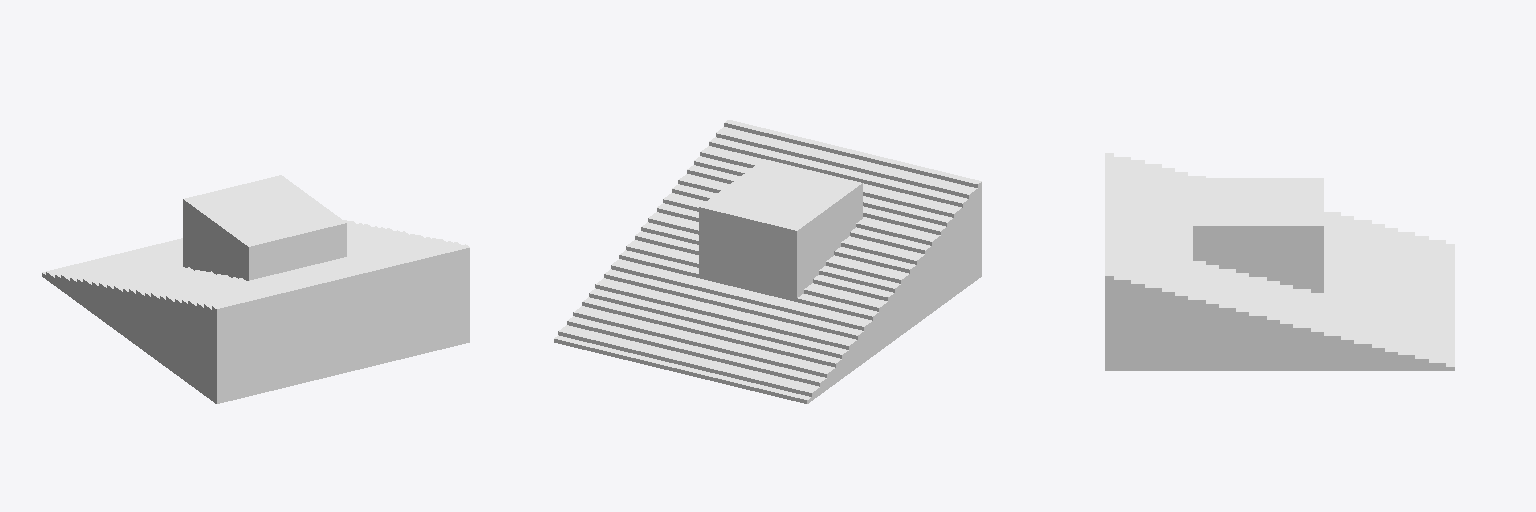
The model's file is dom-6.obj.
3 views of the same model, side by side, from view 1: azimuth 30°, elevation 25°; view 2: azimuth 150°, elevation 25°; view 3: azimuth 270°, elevation 25° (orthographic).
Visible parts, largest first — view 1: object 1; view 2: object 1; view 3: object 1.
Boxes of the visible parts, x1,y1,x2,y2 form: object 1: [42, 175, 469, 403]; object 1: [554, 120, 981, 403]; object 1: [1105, 153, 1454, 370].
Size of the model in its own units: 6.7 by 2.7 by 8.